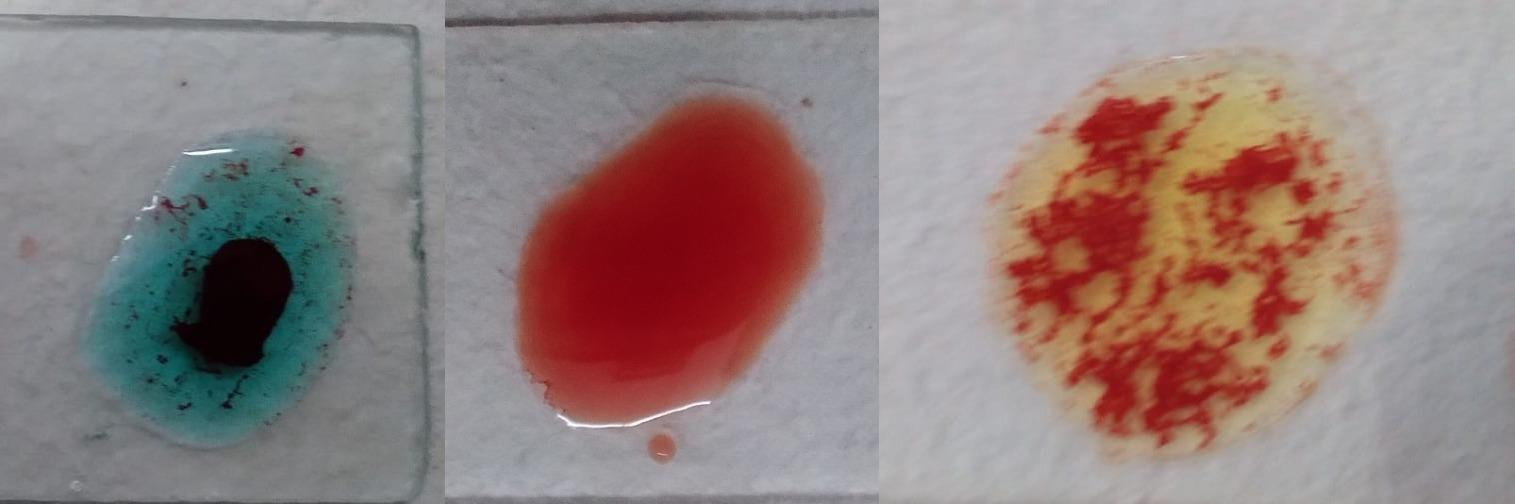A: (95, 145, 354, 446)
B: (1009, 70, 1382, 440)
